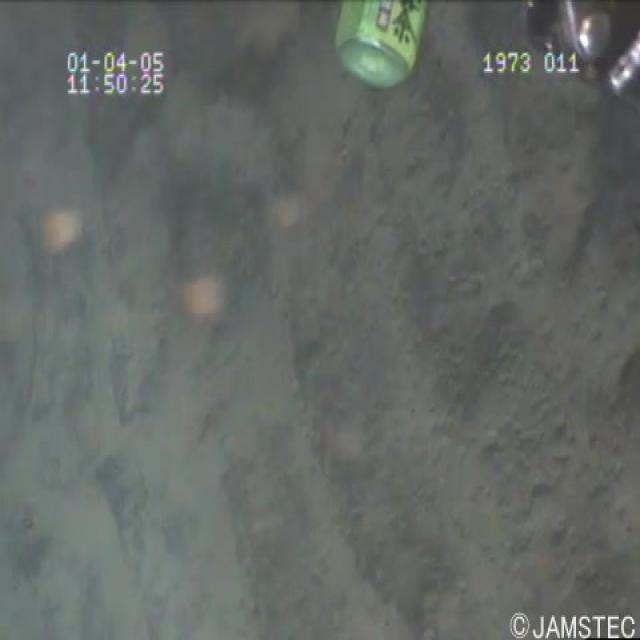plastic: (328, 2, 440, 98)
